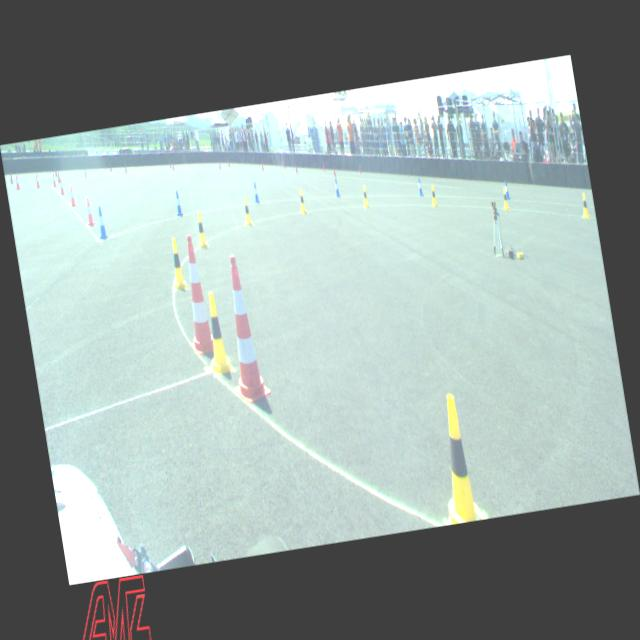blue_cone: (94, 206, 110, 240), (173, 190, 184, 216), (252, 182, 261, 204), (416, 176, 424, 196), (333, 178, 341, 198), (504, 180, 511, 200)
large_orange_cone: (214, 251, 272, 405), (173, 233, 216, 356)
orange_cone: (84, 197, 95, 226), (68, 184, 77, 207), (59, 178, 66, 195), (14, 174, 21, 190), (34, 173, 40, 188), (52, 173, 58, 187)
unknown_cone: (84, 168, 88, 178), (358, 165, 362, 175), (10, 172, 13, 184), (58, 170, 61, 182), (124, 164, 128, 173), (54, 170, 58, 178), (283, 160, 286, 170), (322, 162, 325, 172), (109, 163, 112, 172), (218, 162, 221, 170), (295, 166, 298, 174), (170, 160, 172, 170), (262, 162, 264, 172), (334, 167, 336, 177), (172, 162, 174, 171), (228, 160, 230, 168)
yellow_cone: (428, 392, 484, 524), (198, 290, 237, 377), (166, 236, 188, 290), (193, 210, 210, 250), (240, 195, 254, 227), (296, 188, 308, 215), (579, 192, 591, 219), (360, 184, 370, 208), (500, 186, 510, 210), (429, 183, 438, 207)
